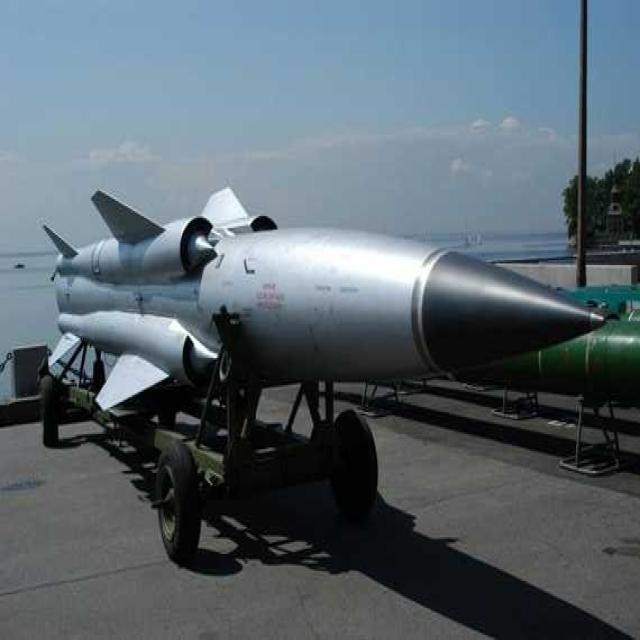missile: (33, 188, 604, 426)
